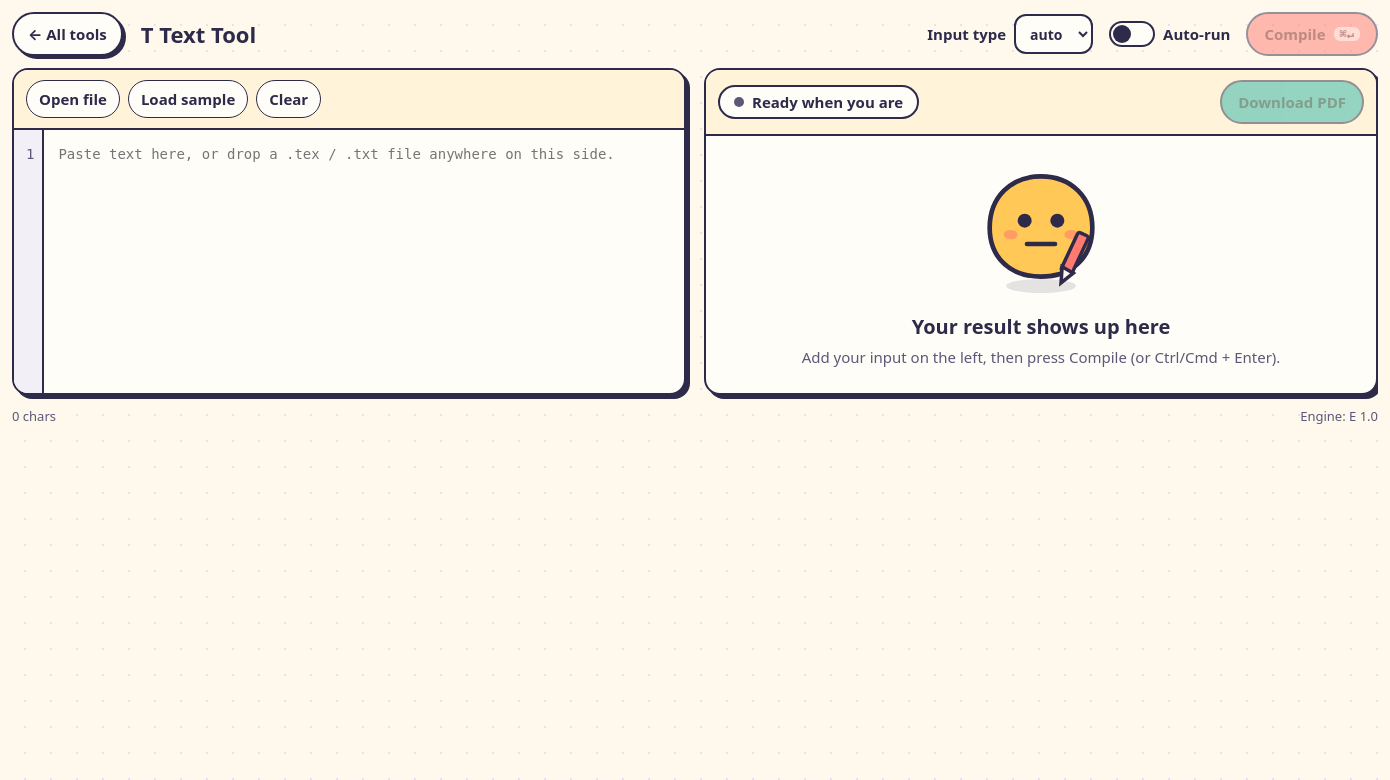
Test: running a text tool › tools without a preview show a ready card with the file name and size
Replace the text in the text box named "Input text" with "x" at {"x": 364, "y": 261}, box [44,130,684,392]
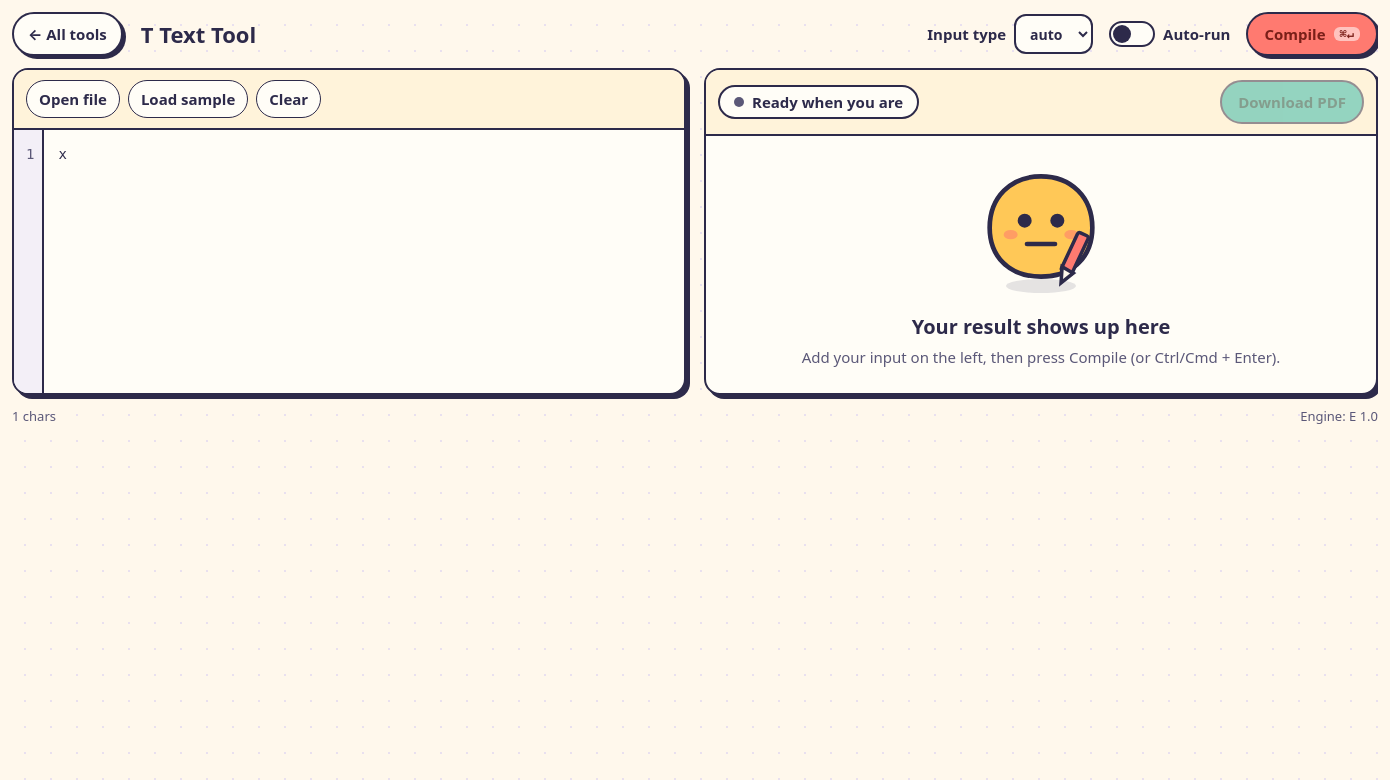
Click the button "Compile ⌘↵" at {"x": 1312, "y": 34}, box [1246,12,1378,56]
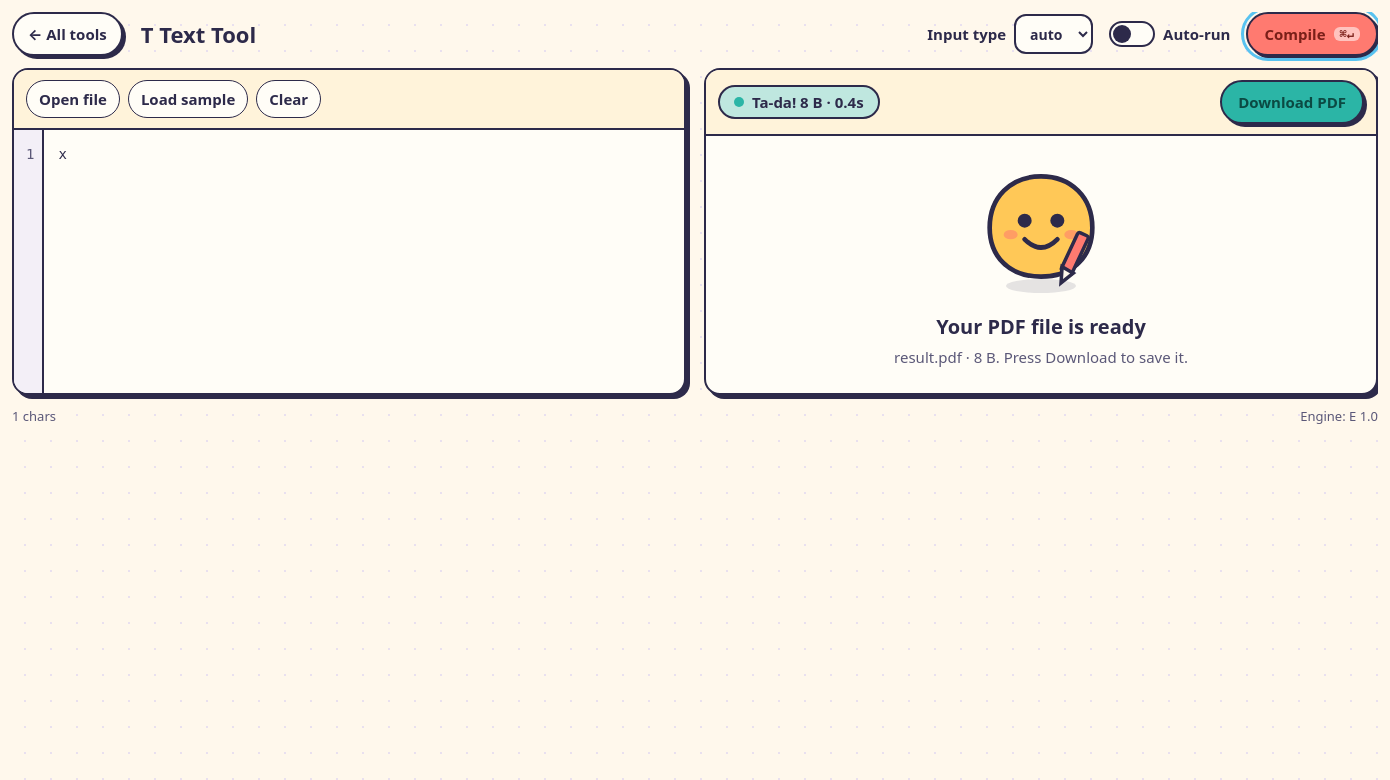
Result: the text "Your PDF file is ready" is shown at [936,312,1146,342]
Result: the text "result.pdf · 8 B. Press Download to save it." is shown at [894,346,1188,368]
